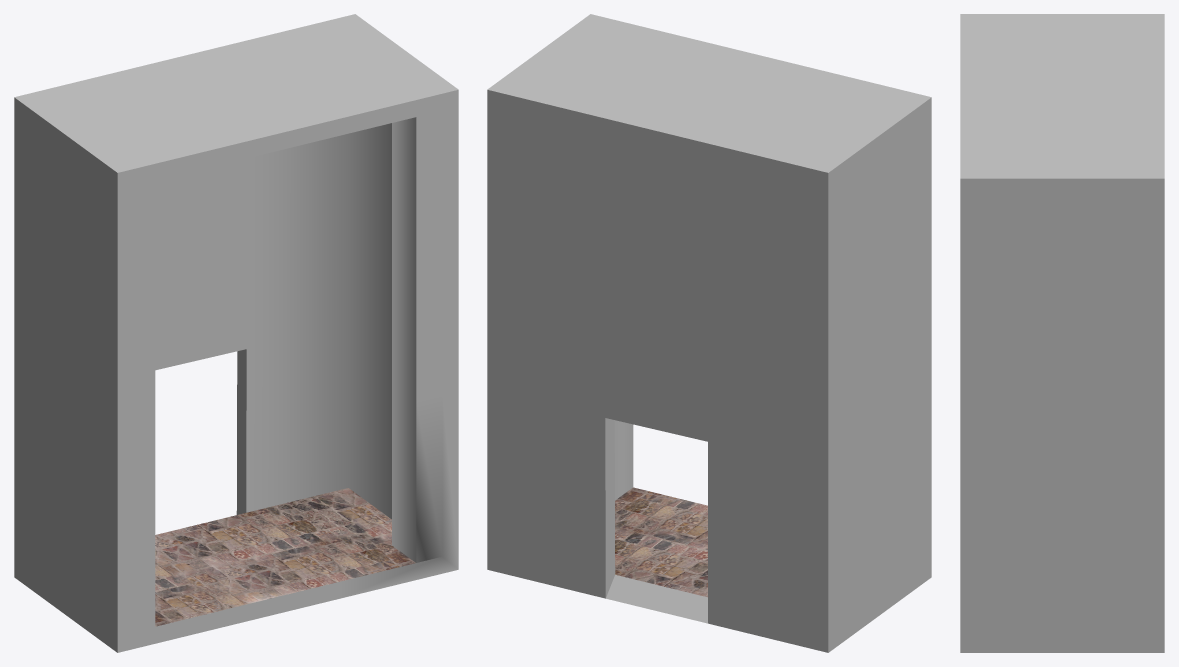
File: door_connector_corridor_place your doorway or doorframe within this.dae
3 views of the same model, side by side, from view 1: azimuth 30°, elevation 25°; view 2: azimuth 150°, elevation 25°; view 3: azimuth 270°, elevation 25° (orthographic).
Parts seen in each view (by area): view 1: meshU3D; view 2: meshU3D; view 3: meshU3D.
Boxes of the visible parts, box(x1,y1,x2,y2) form: meshU3D: box(14, 14, 458, 652); meshU3D: box(487, 14, 931, 652); meshU3D: box(960, 14, 1164, 652).
Size of the model in its own units: 203 by 273 by 107.
